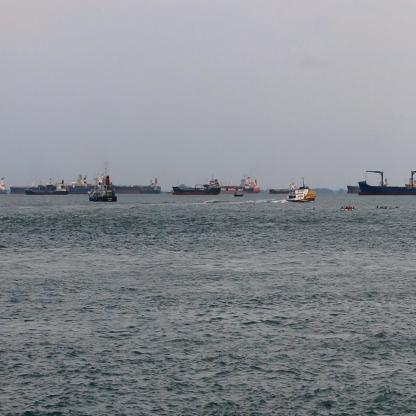Container Ship: (72, 172, 166, 194), (356, 168, 415, 196), (8, 171, 77, 193), (86, 159, 118, 203), (171, 173, 220, 196), (219, 170, 259, 194), (24, 176, 69, 195), (346, 176, 388, 192), (267, 175, 297, 195)
